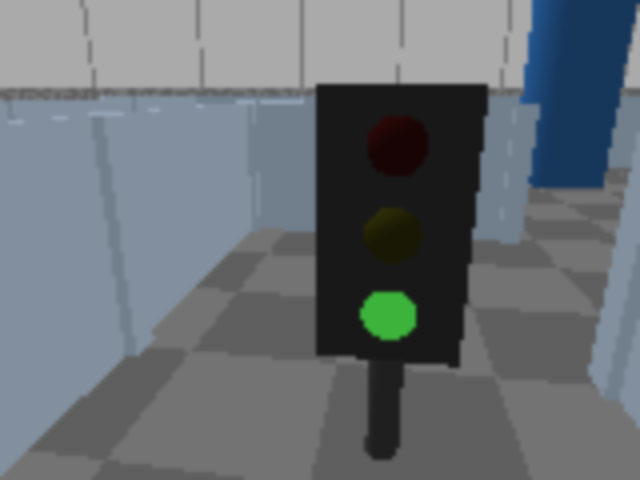traffic_light: (316, 58, 492, 478)
